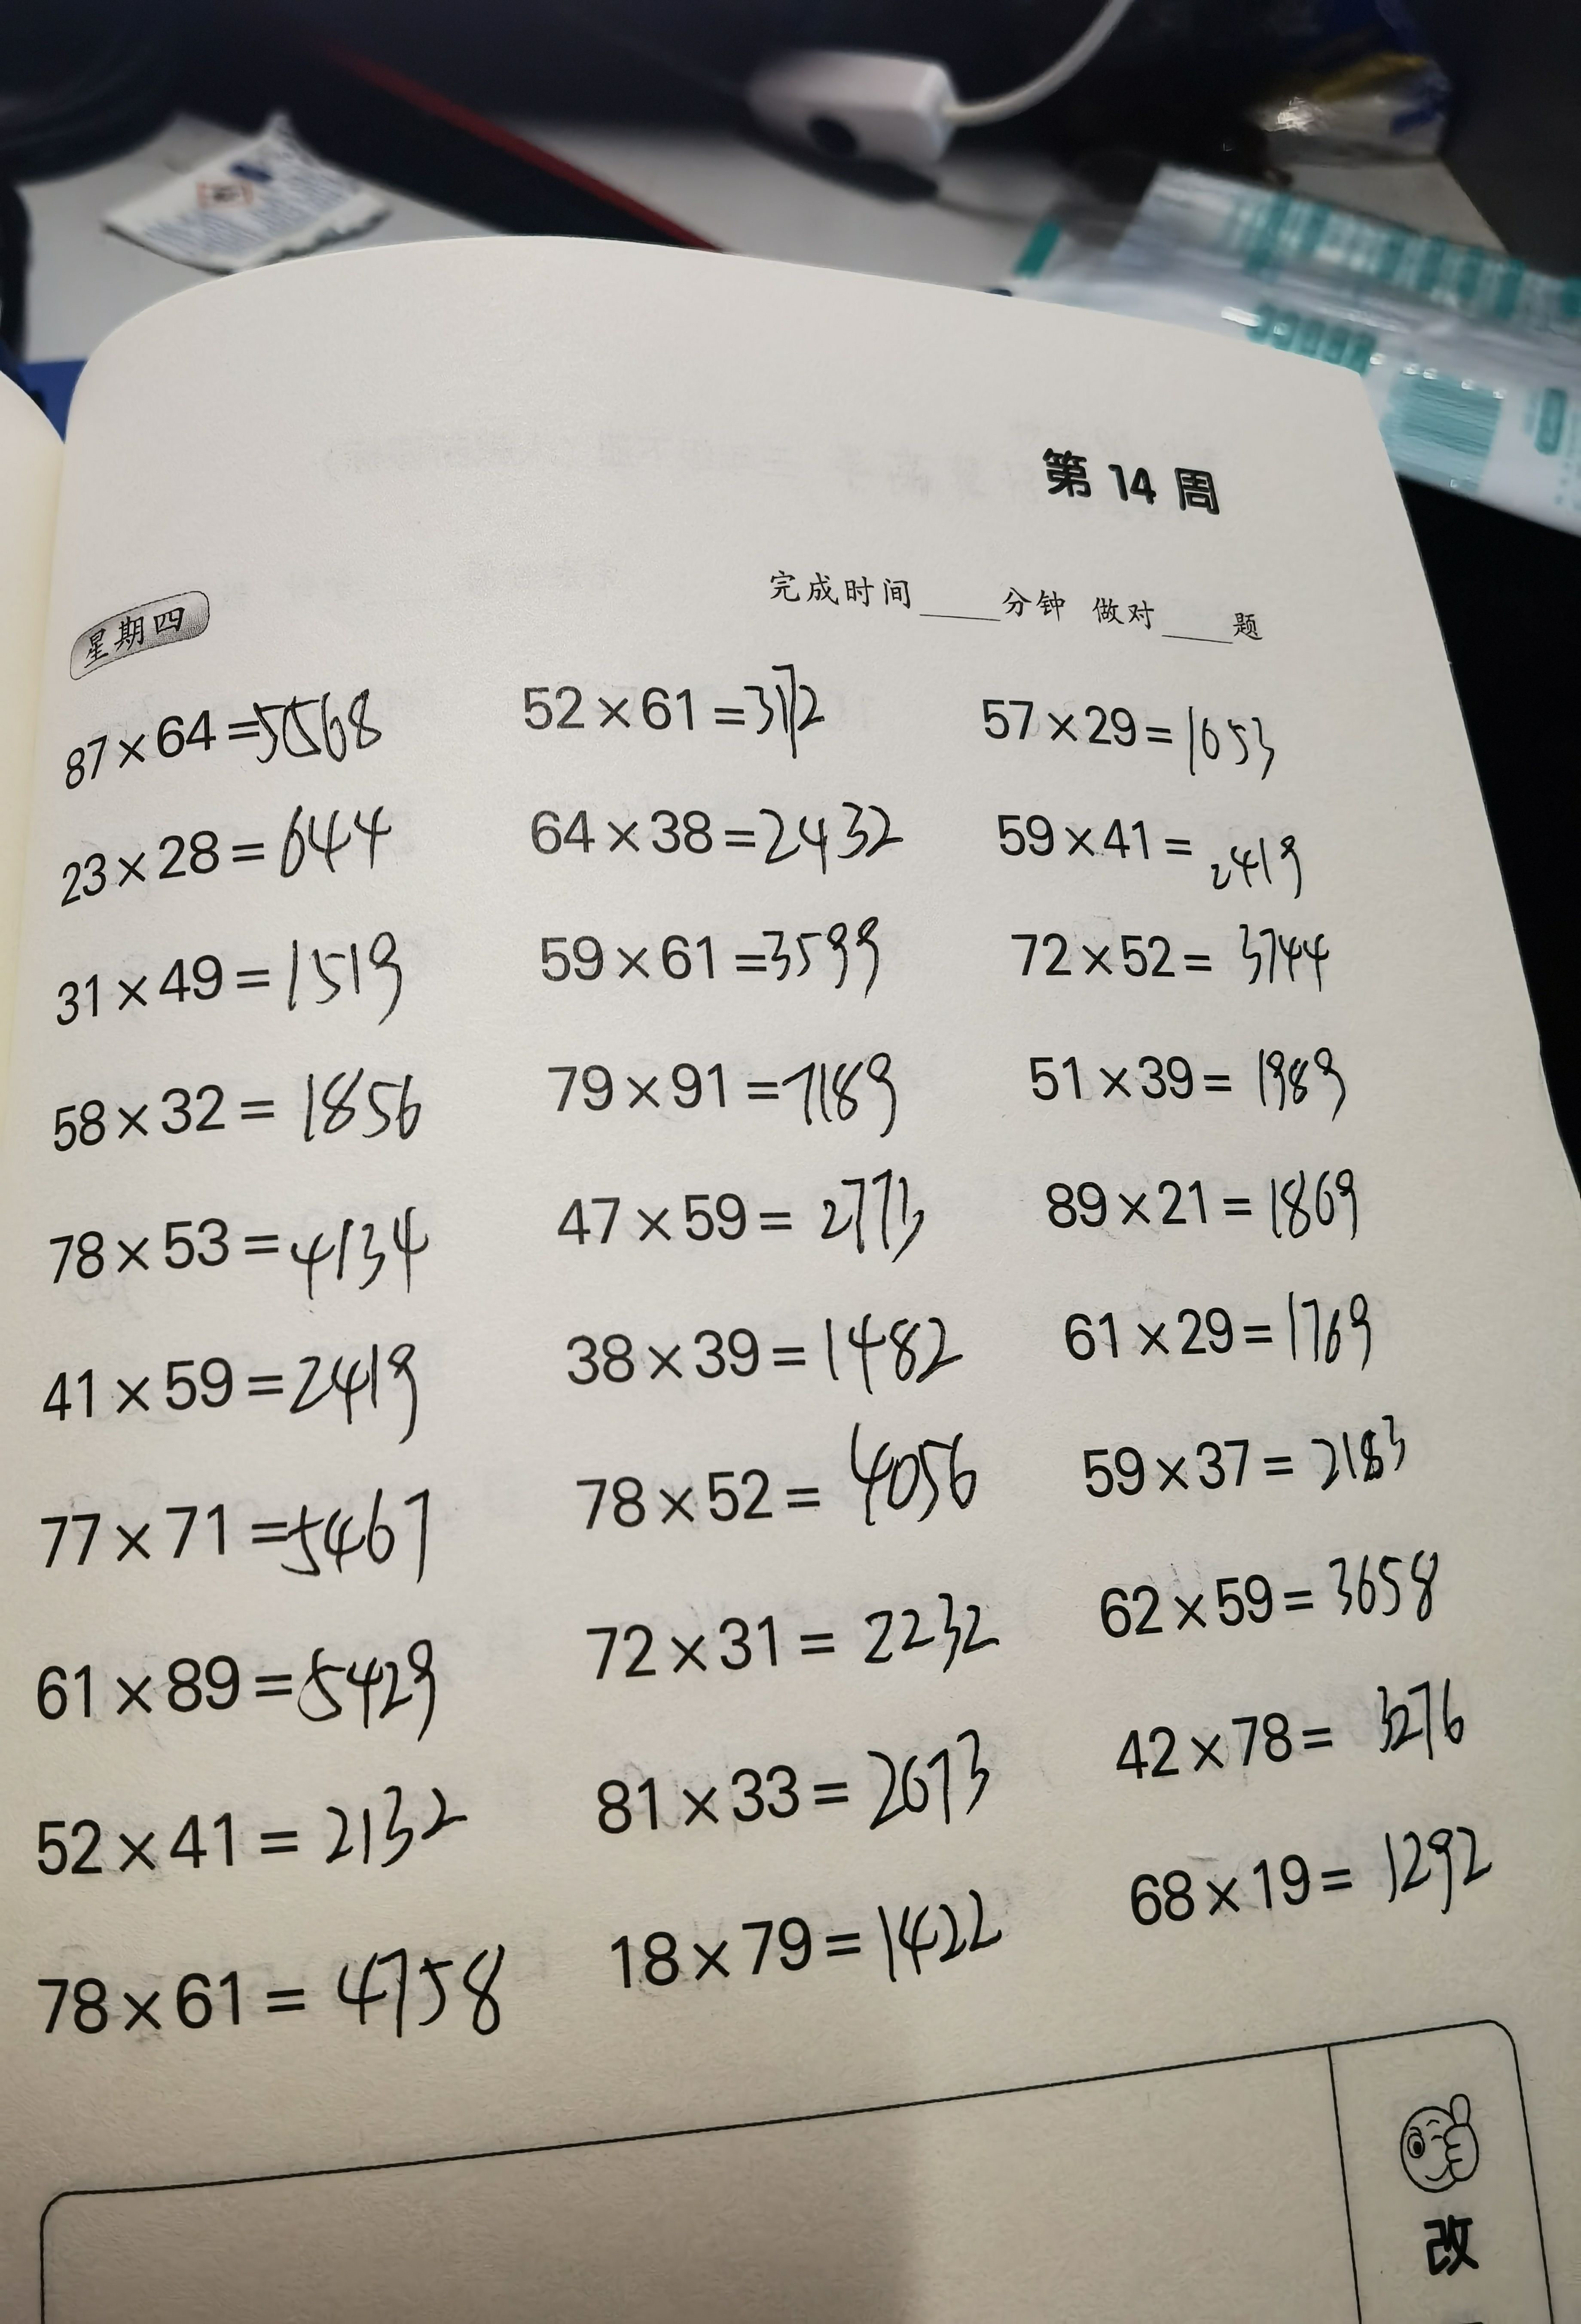equation: (16, 1927, 522, 2080), (558, 1851, 1039, 1998), (1085, 1814, 1551, 1946), (9, 1777, 491, 1897), (529, 1422, 992, 1539), (588, 1715, 988, 1849), (521, 1163, 967, 1276), (32, 1632, 485, 1742), (21, 1172, 452, 1286), (21, 1318, 439, 1435), (11, 1486, 461, 1593), (563, 1588, 1020, 1694), (974, 780, 1325, 909), (990, 1029, 1392, 1138), (1073, 1523, 1463, 1634), (1023, 1145, 1383, 1265), (519, 1029, 916, 1136), (963, 662, 1322, 778), (496, 791, 935, 884), (549, 1295, 993, 1385), (1053, 1401, 1442, 1503), (1083, 1675, 1484, 1772), (30, 937, 436, 1032), (505, 912, 925, 1004), (970, 916, 1357, 1015), (16, 1059, 438, 1149), (34, 692, 423, 787), (494, 660, 868, 748), (48, 812, 439, 888), (1060, 1295, 1403, 1371)
